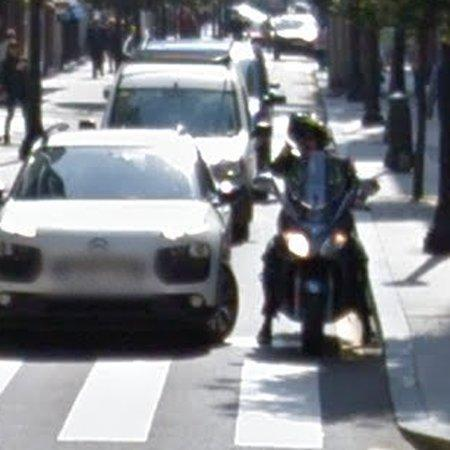crosswalks: (0, 355, 327, 450)
